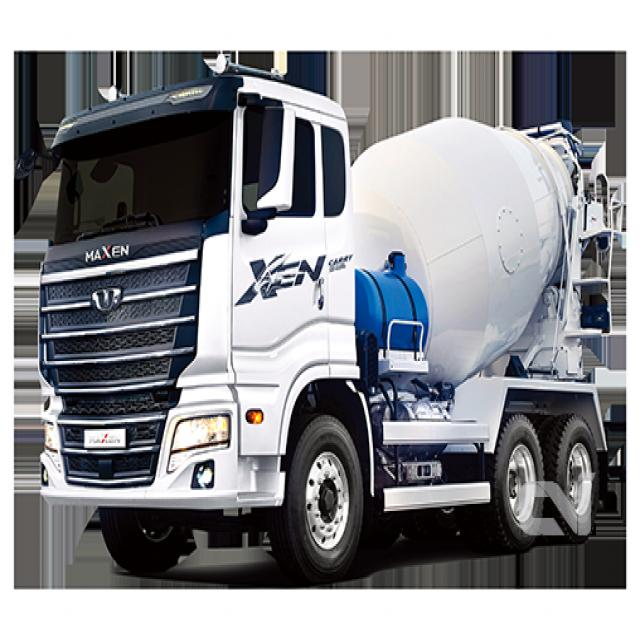Mixer Truck: (38, 72, 628, 586)
